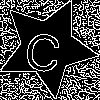C: (22, 22, 65, 74)
